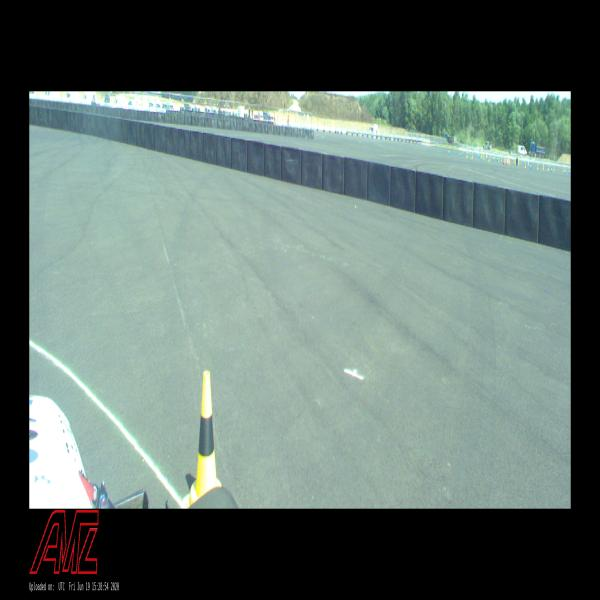yellow_cone: (186, 371, 222, 507)
